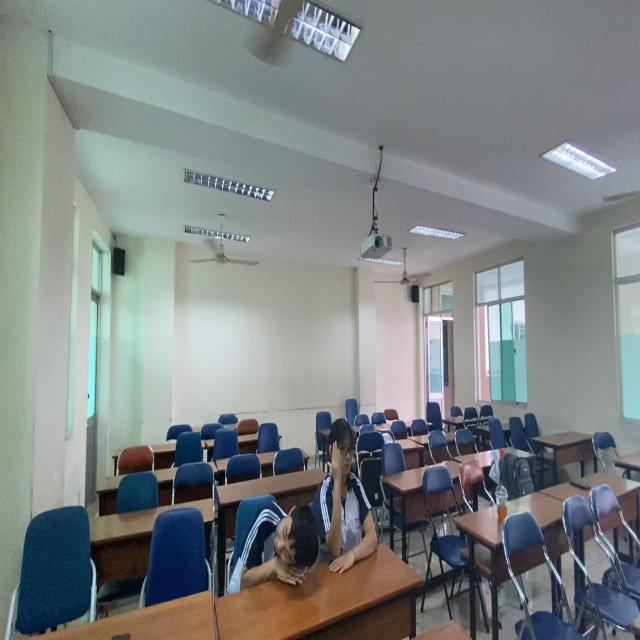raise_hand: (319, 418, 379, 580)
sleep: (223, 480, 324, 600)
